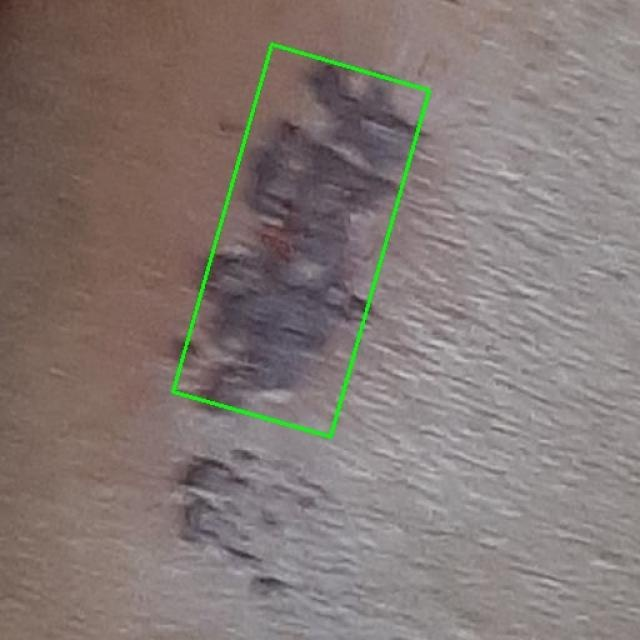Atopic Dermatitis: (173, 45, 430, 437)
